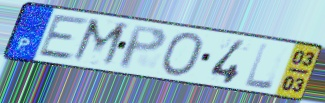4: (207, 37, 248, 85)
E: (35, 14, 92, 62)
L: (243, 41, 276, 91)
M: (68, 16, 131, 70)
O: (158, 31, 205, 78)
P: (117, 24, 169, 71)
